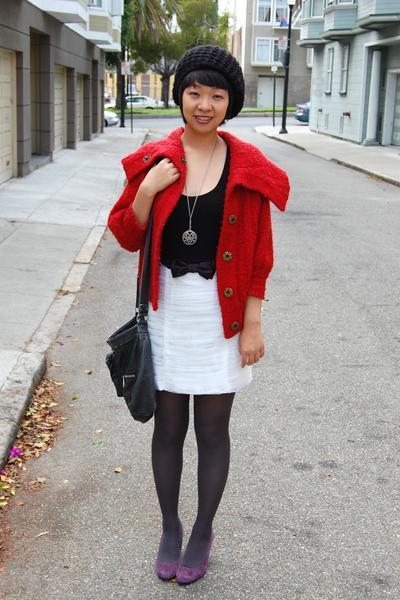bag: (108, 309, 159, 422)
hat: (160, 46, 258, 125)
jacket: (108, 124, 289, 347)
shirt: (160, 135, 231, 277)
shoe: (155, 540, 211, 587)
skirt: (144, 266, 252, 395)
